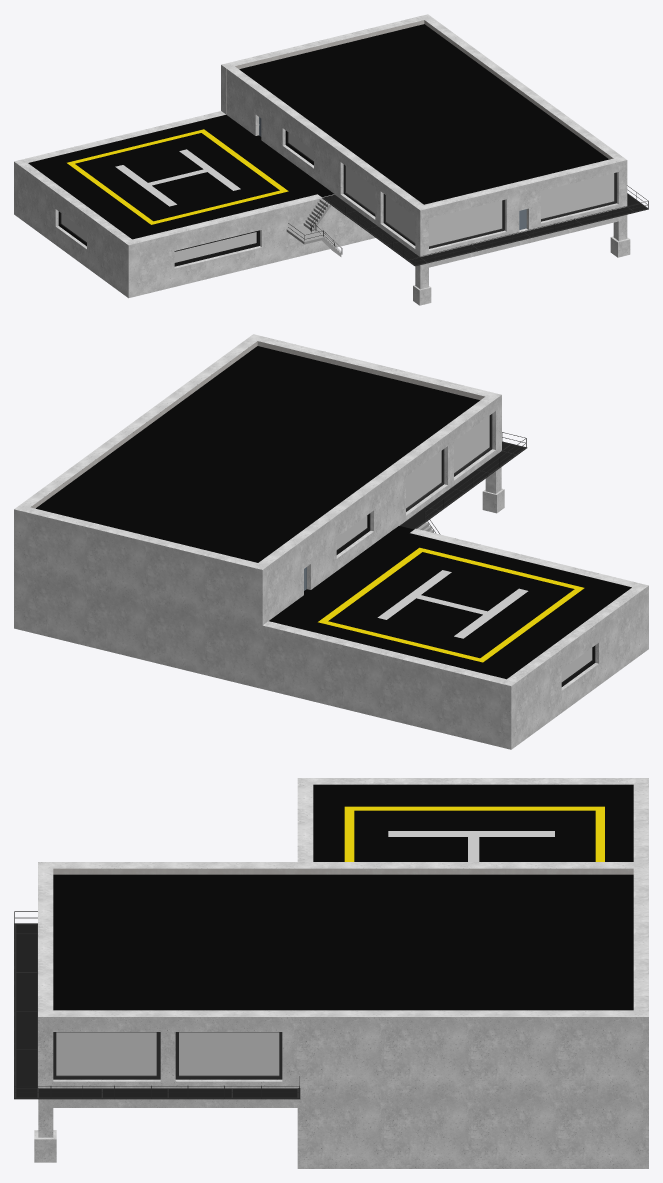
The model's file is military-hq.lod0.glb.
3 views of the same model, one above another, from view 1: azimuth 30°, elevation 25°; view 2: azimuth 150°, elevation 25°; view 3: azimuth 270°, elevation 25° (orthographic). The views are drawn at different scales.
Parts seen in each view (by area): view 1: Walls_Floor_2_0, Walls_Outer_Walls_0, Railing_Railing_0, Walls_Inner_walls_0; view 2: Walls_Floor_2_0, Walls_Outer_Walls_0, Walls_Inner_walls_0, Railing_Railing_0; view 3: Walls_Floor_2_0, Walls_Outer_Walls_0, Railing_Railing_0, Walls_Inner_walls_0.
Boxes of the visible parts, x1,y1,x2,y2 form: Walls_Floor_2_0: [28, 24, 646, 266]; Walls_Outer_Walls_0: [14, 14, 630, 305]; Railing_Railing_0: [288, 164, 648, 266]; Walls_Inner_walls_0: [34, 20, 613, 161]; Walls_Floor_2_0: [36, 346, 631, 686]; Walls_Outer_Walls_0: [14, 334, 648, 749]; Walls_Inner_walls_0: [30, 341, 631, 587]; Railing_Railing_0: [399, 414, 527, 534]; Walls_Floor_2_0: [16, 784, 633, 1097]; Walls_Outer_Walls_0: [34, 778, 648, 1168]; Railing_Railing_0: [14, 911, 300, 1099]; Walls_Inner_walls_0: [53, 868, 633, 874].
Bounding box in the file's own units: 40.21 × 8.91 × 33.7.
Materials: 6 (4 with a texture image).
